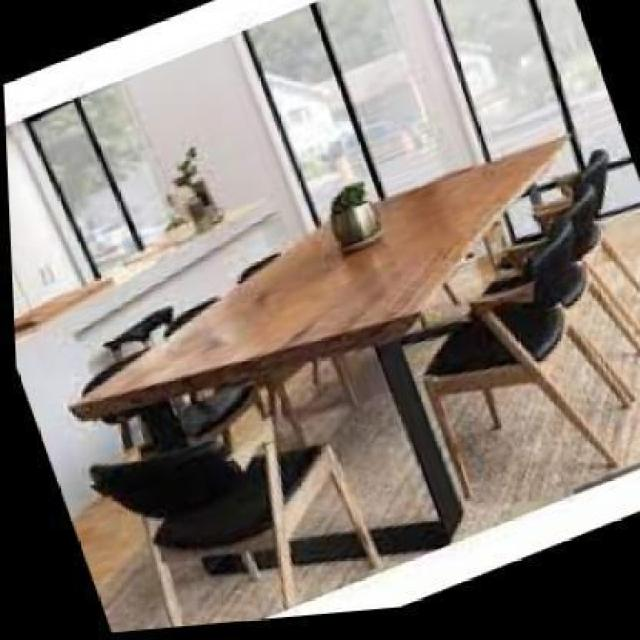tables: (71, 131, 569, 603)
